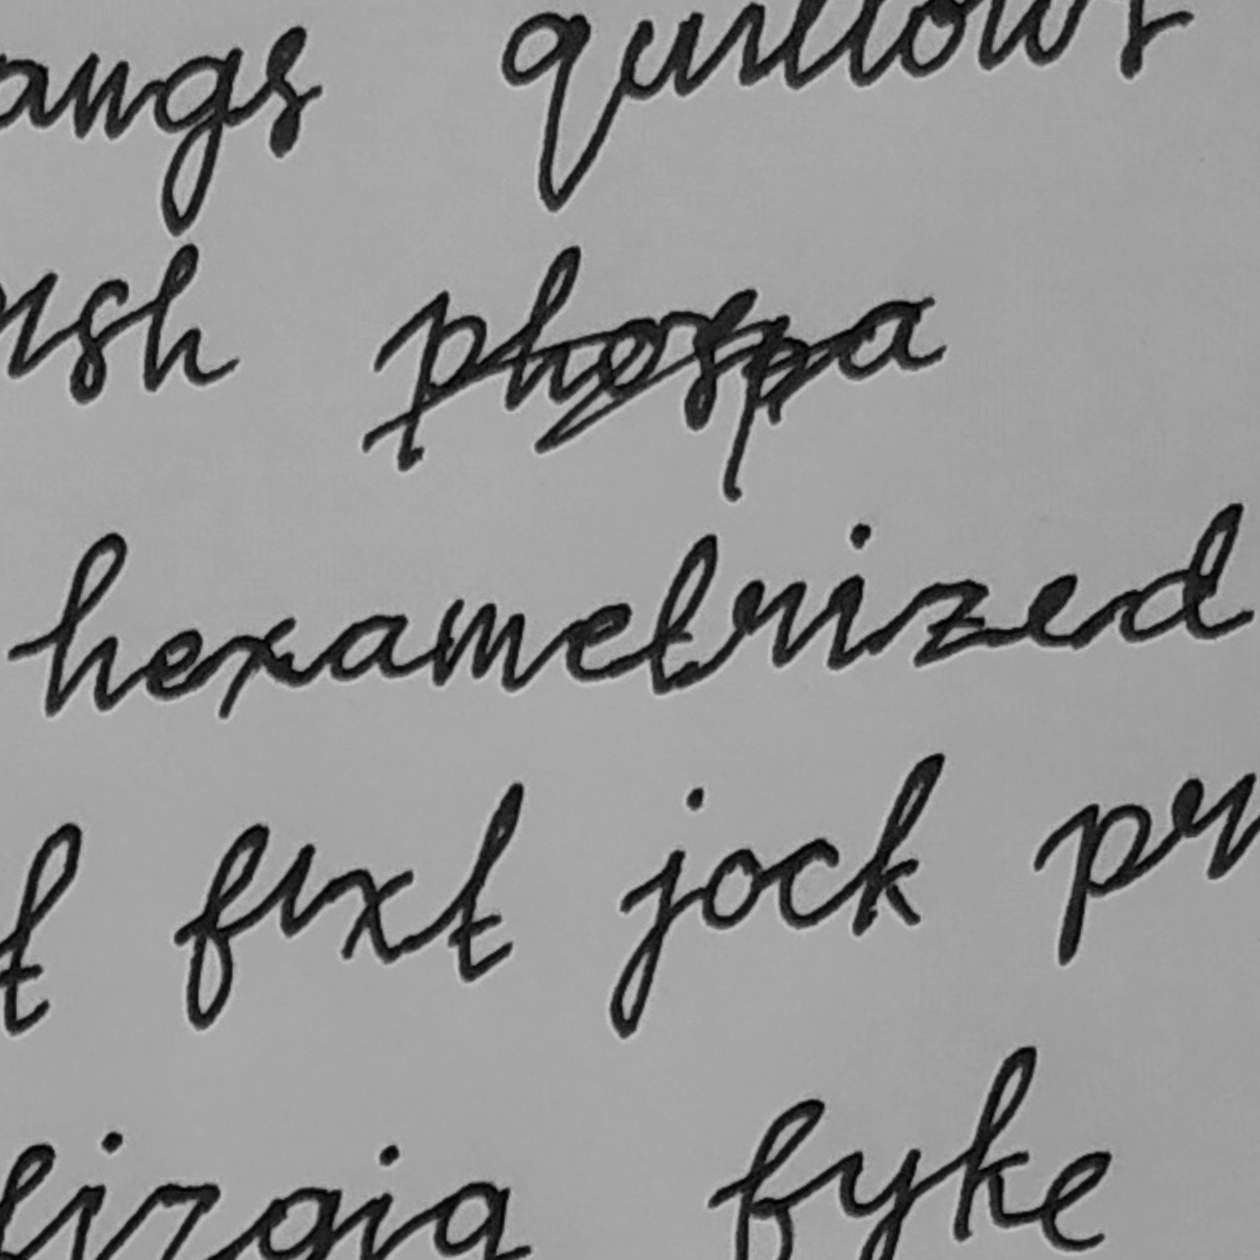a: (318, 603, 413, 693)
d: (1111, 495, 1257, 648)
e: (552, 597, 637, 690), (1017, 563, 1095, 661), (138, 623, 208, 704)
h: (38, 528, 132, 719)
i: (813, 519, 883, 676)
m: (423, 592, 530, 704)
r: (723, 567, 809, 678)
t: (642, 528, 721, 702)
x: (209, 613, 303, 722)
z: (900, 571, 1002, 672)
